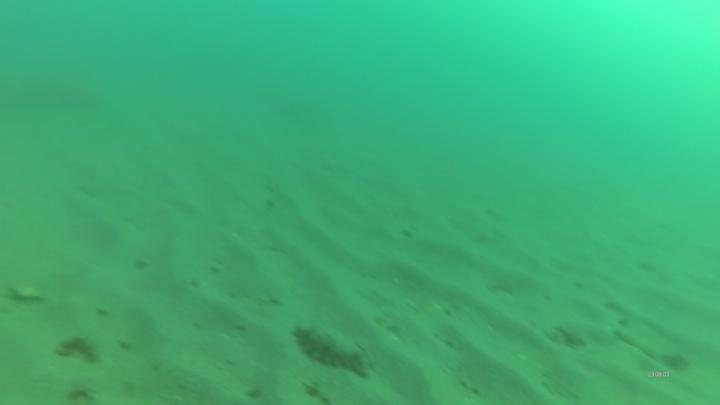holothurian: (292, 321, 375, 381)
